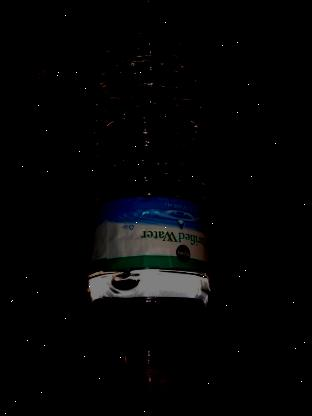Plastic Bottle: (59, 24, 219, 404)
